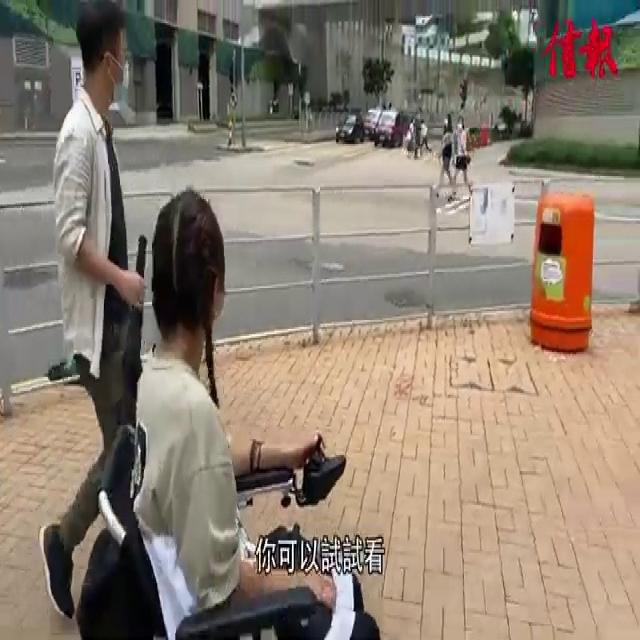wheelchairs: (72, 436, 377, 640)
